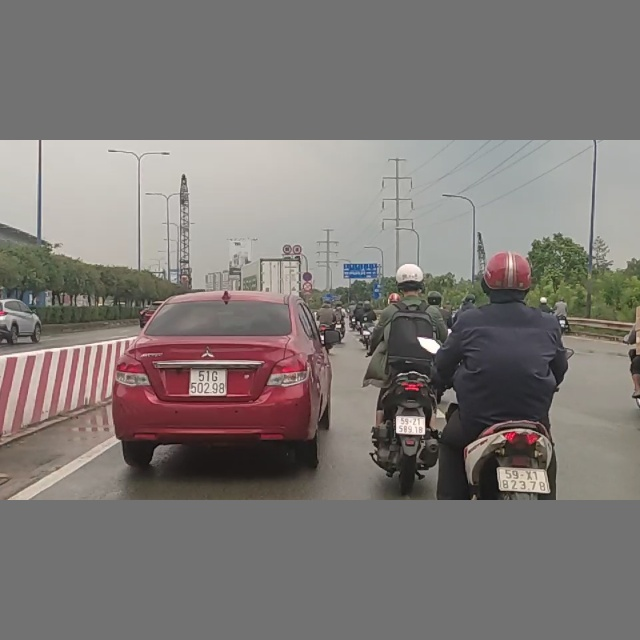P.130: (301, 271, 313, 281)
